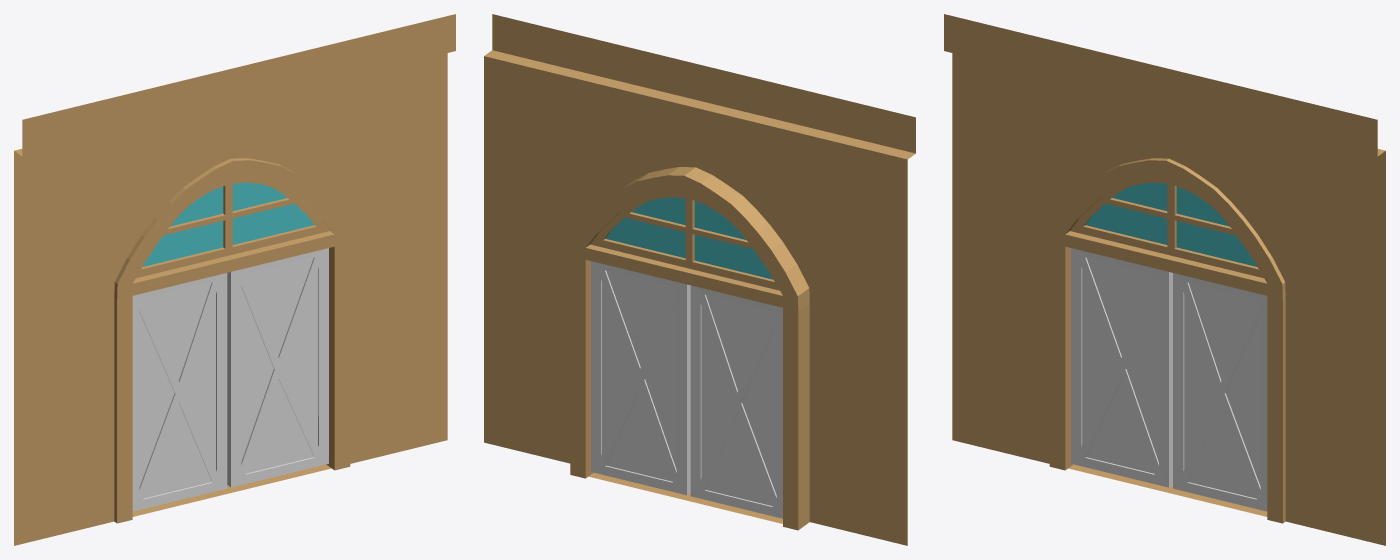
File: Wall_Door.fbx
3 views of the same model, side by side, from view 1: azimuth 30°, elevation 25°; view 2: azimuth 150°, elevation 25°; view 3: azimuth 330°, elevation 25° (orthographic). The views are drawn at different scales.
Visible parts, largest first — view 1: Wall_DoorWall, Wall_DoorFrame, Door2, Door1; view 2: Wall_DoorWall, Wall_DoorFrame, Door2, Door1; view 3: Wall_DoorWall, Wall_DoorFrame, Door1, Door2.
Part boxes in pixels (x1=…): Wall_DoorWall: x1=14, y1=14, x2=455, y2=545; Wall_DoorFrame: x1=114, y1=158, x2=350, y2=523; Door2: x1=227, y1=248, x2=328, y2=487; Door1: x1=132, y1=273, x2=227, y2=511; Wall_DoorWall: x1=484, y1=14, x2=915, y2=545; Wall_DoorFrame: x1=570, y1=167, x2=809, y2=530; Door2: x1=591, y1=261, x2=690, y2=495; Door1: x1=690, y1=285, x2=782, y2=518; Wall_DoorWall: x1=944, y1=14, x2=1385, y2=545; Wall_DoorFrame: x1=1049, y1=158, x2=1285, y2=523; Door1: x1=1071, y1=248, x2=1172, y2=487; Door2: x1=1173, y1=273, x2=1267, y2=511.
Size of the model in its own units: 6 by 5.72 by 0.4828.
